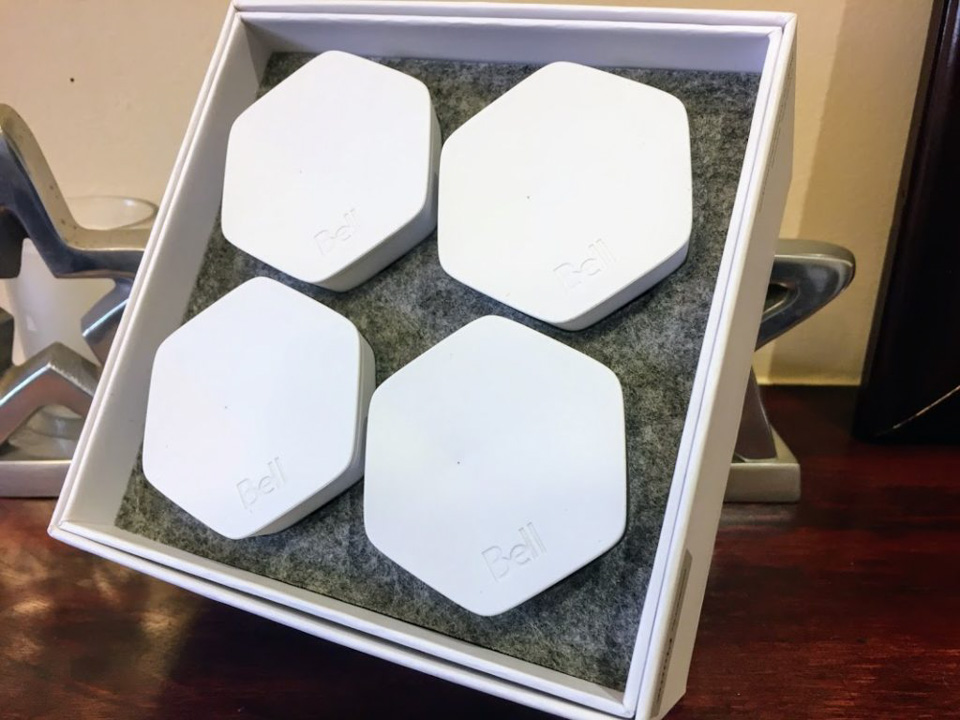pod: (362, 315, 633, 621), (431, 54, 702, 333), (135, 273, 368, 546), (217, 47, 448, 293)
